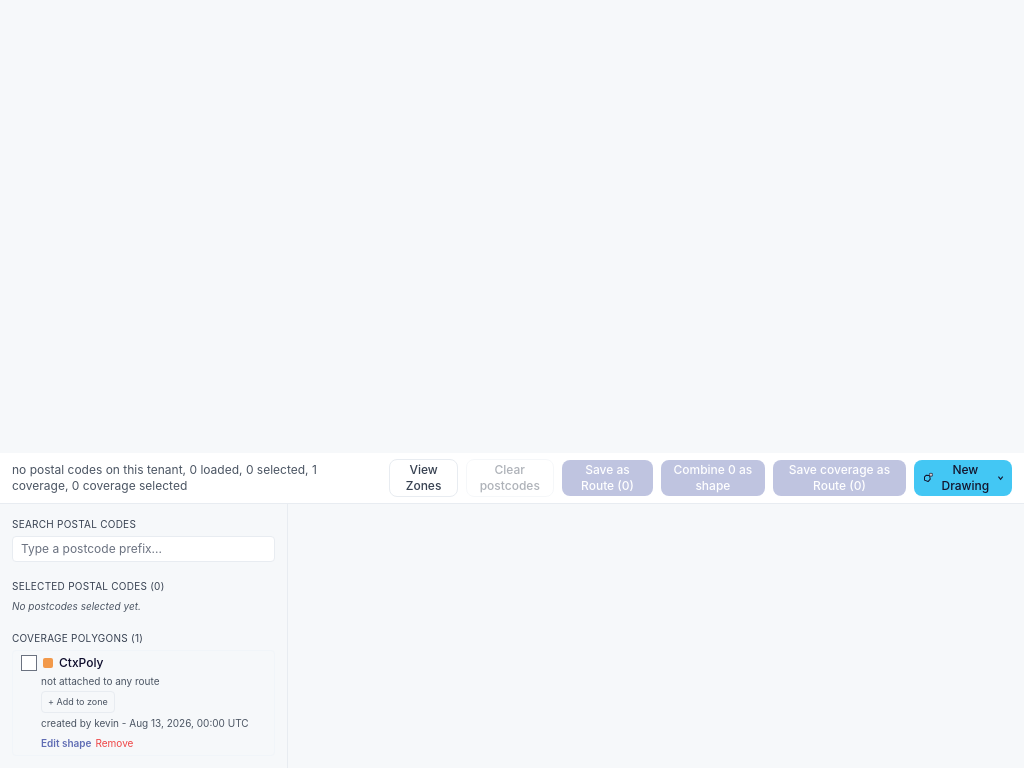
Test case: PolygonBuilder - context menu › remove server failure surfaces via toast
(page scrolled)
Expected: the button "CtxPoly" is shown, [59,655,266,671]
Click the button "Remove" at (114, 743), box [96,735,133,751]
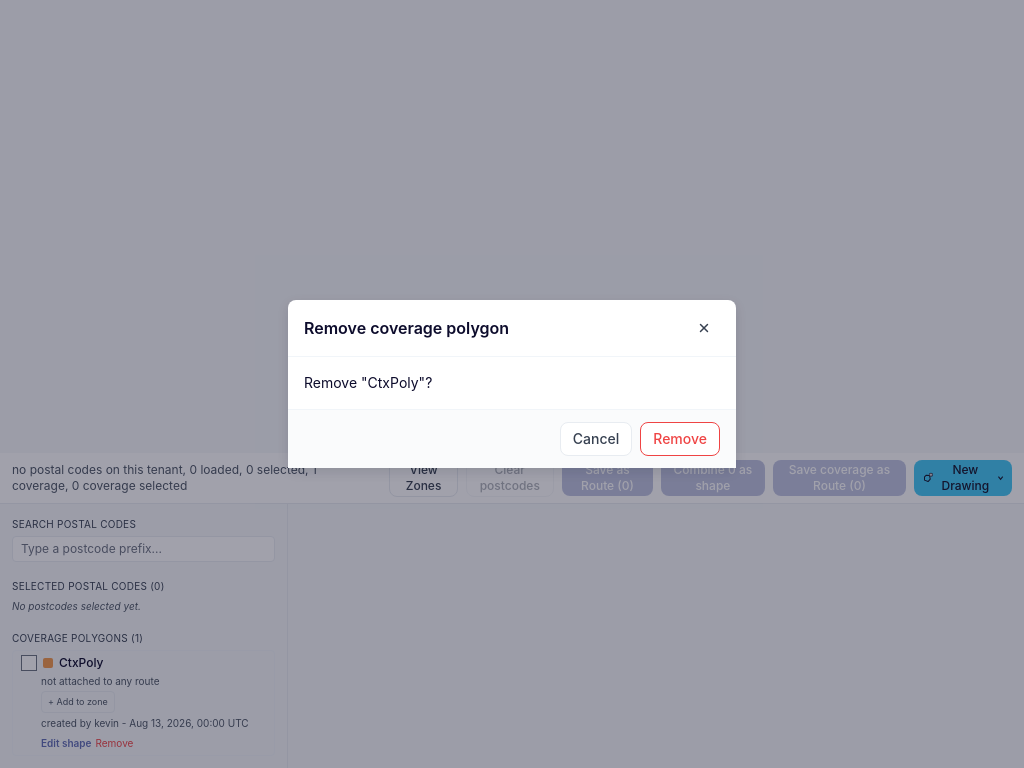
Expected: the heading "Remove coverage polygon" is shown, [304,316,509,340]
Click the button "Remove" at (680, 439), box [640,422,720,456]
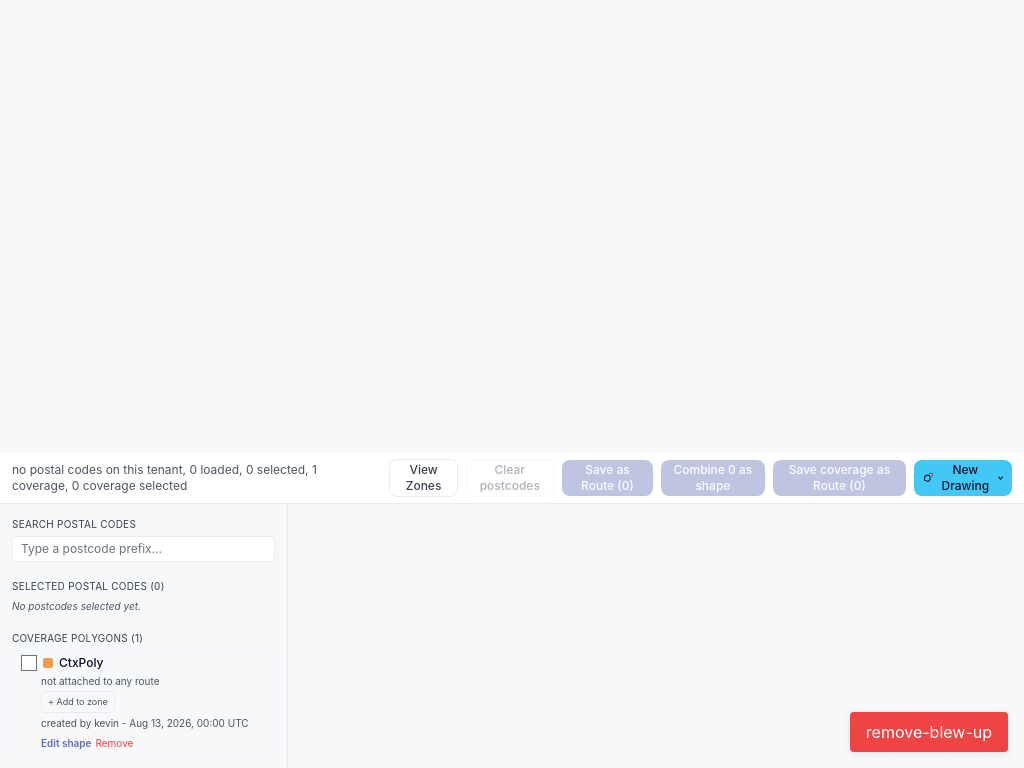
Expected: the text "remove-blew-up" is shown, [850,712,1008,752]
